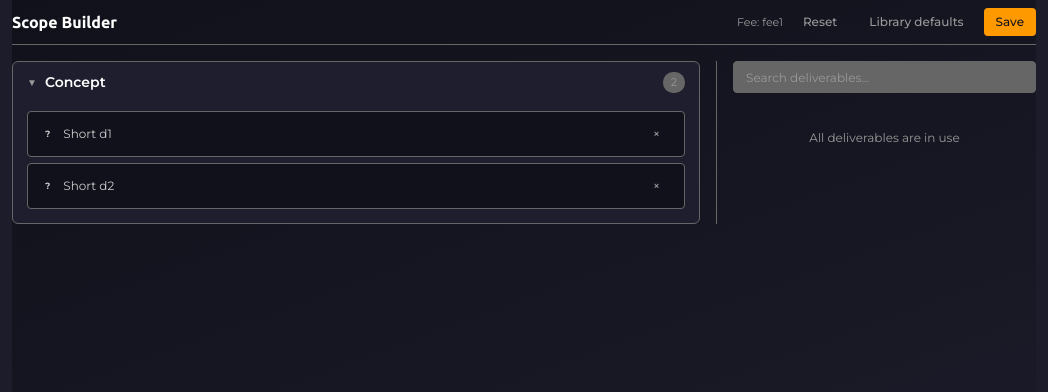
ScopeBuilder save state › keeps the editor and the edits when a save fails
Step 1. Click the button titled "Remove deliverable" in the row of "Short d1" → (656, 134), box [641,120,672,148]
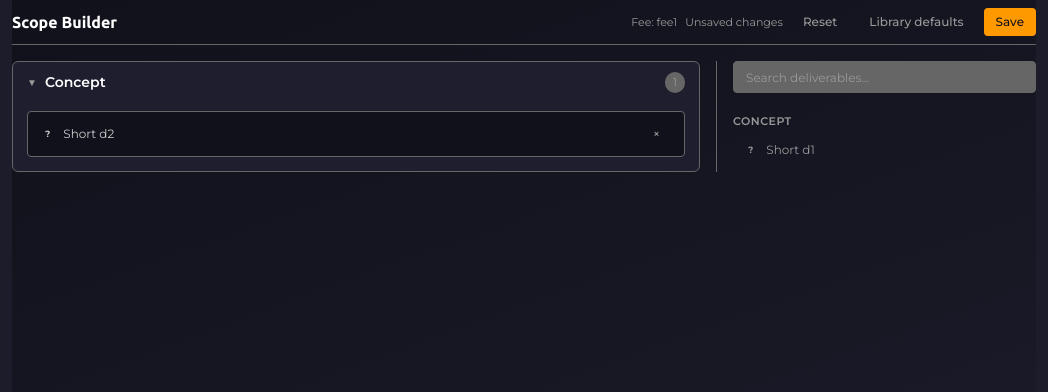
Step 2. Click the button "Save" → (1010, 22), box [984,8,1036,36]
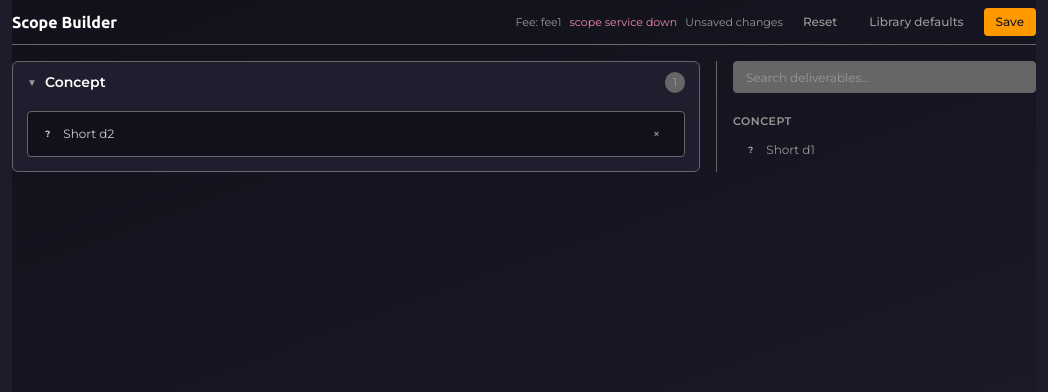
Now the number of buttons titled "Remove deliverable" is 1, box [641,120,672,148]
Now the text "Unsaved changes" is shown, box [685,14,783,30]
Now the text "scope service down" is shown, box [569,14,677,30]
